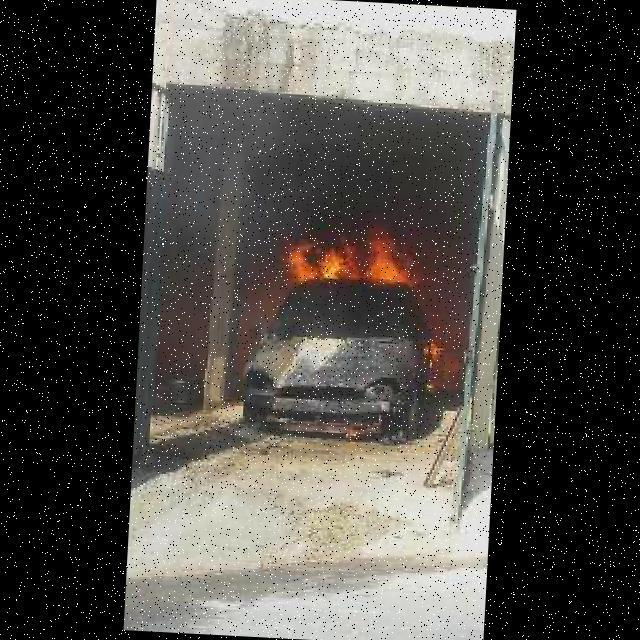Fire: (282, 216, 421, 289), (424, 338, 451, 367)
